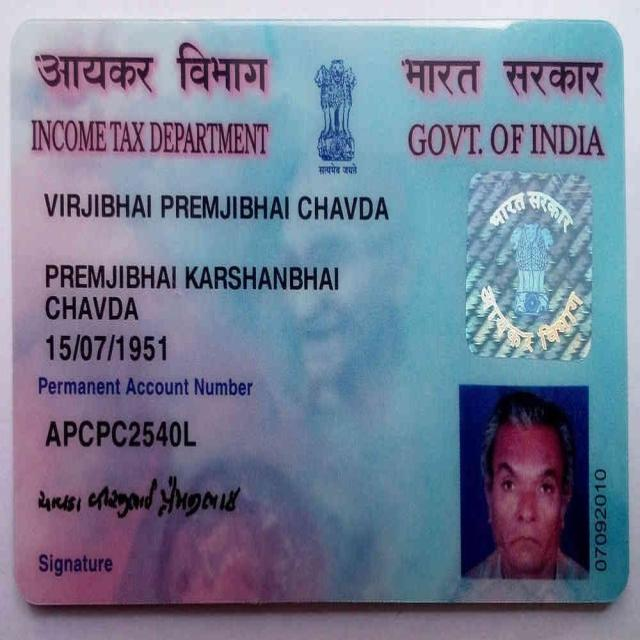pan_card: (12, 19, 627, 597)
